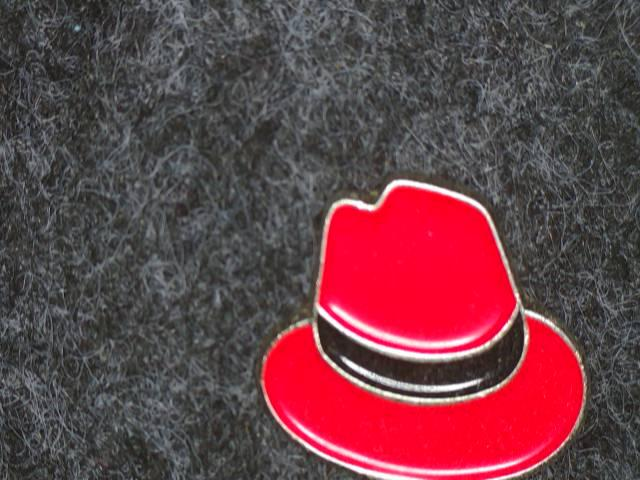Red-Hat: (214, 154, 606, 480)
